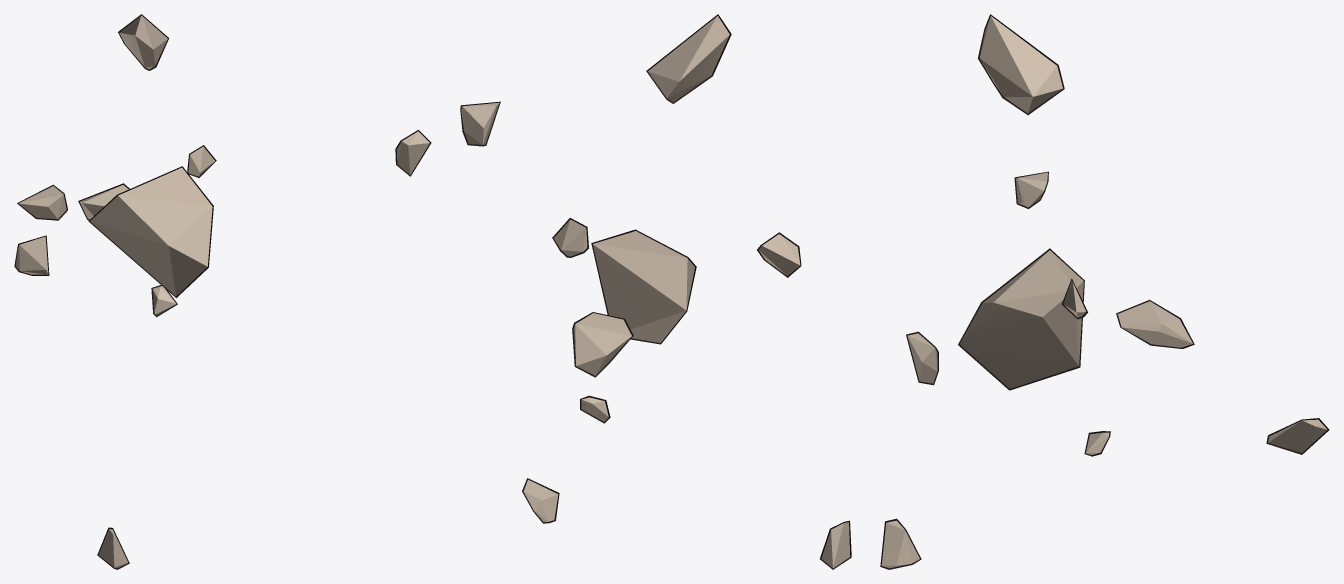
Rendered from SM_Mtn_Shards_01.fbx.
3 views of the same model, side by side, from view 1: azimuth 30°, elevation 25°; view 2: azimuth 150°, elevation 25°; view 3: azimuth 270°, elevation 25° (orthographic). The views are drawn at different scales.
Parts seen in each view (by area): view 1: SM_Mtn_Shards_01; view 2: SM_Mtn_Shards_01; view 3: SM_Mtn_Shards_01.
Boxes of the visible parts, x1=… form: SM_Mtn_Shards_01: x1=14, y1=14, x2=431, y2=569; SM_Mtn_Shards_01: x1=460, y1=14, x2=851, y2=569; SM_Mtn_Shards_01: x1=880, y1=14, x2=1329, y2=569.
Size of the model in its own units: 18.38 by 24.75 by 16.95.
